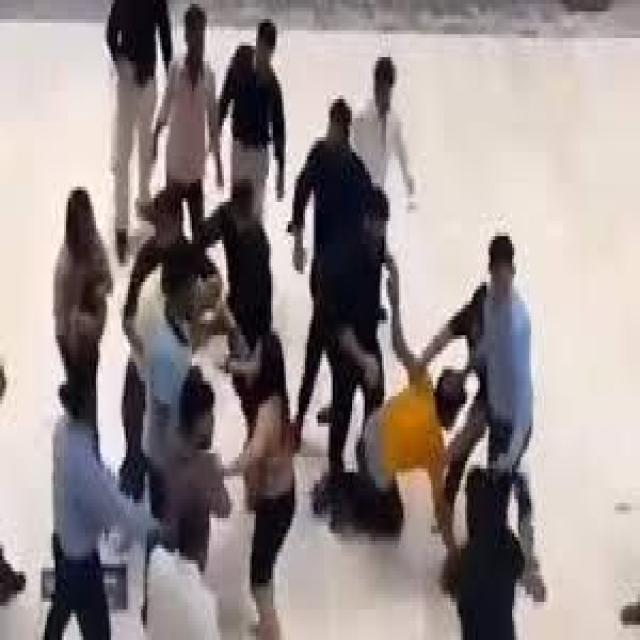fight: (322, 158, 553, 581), (106, 179, 300, 621)
